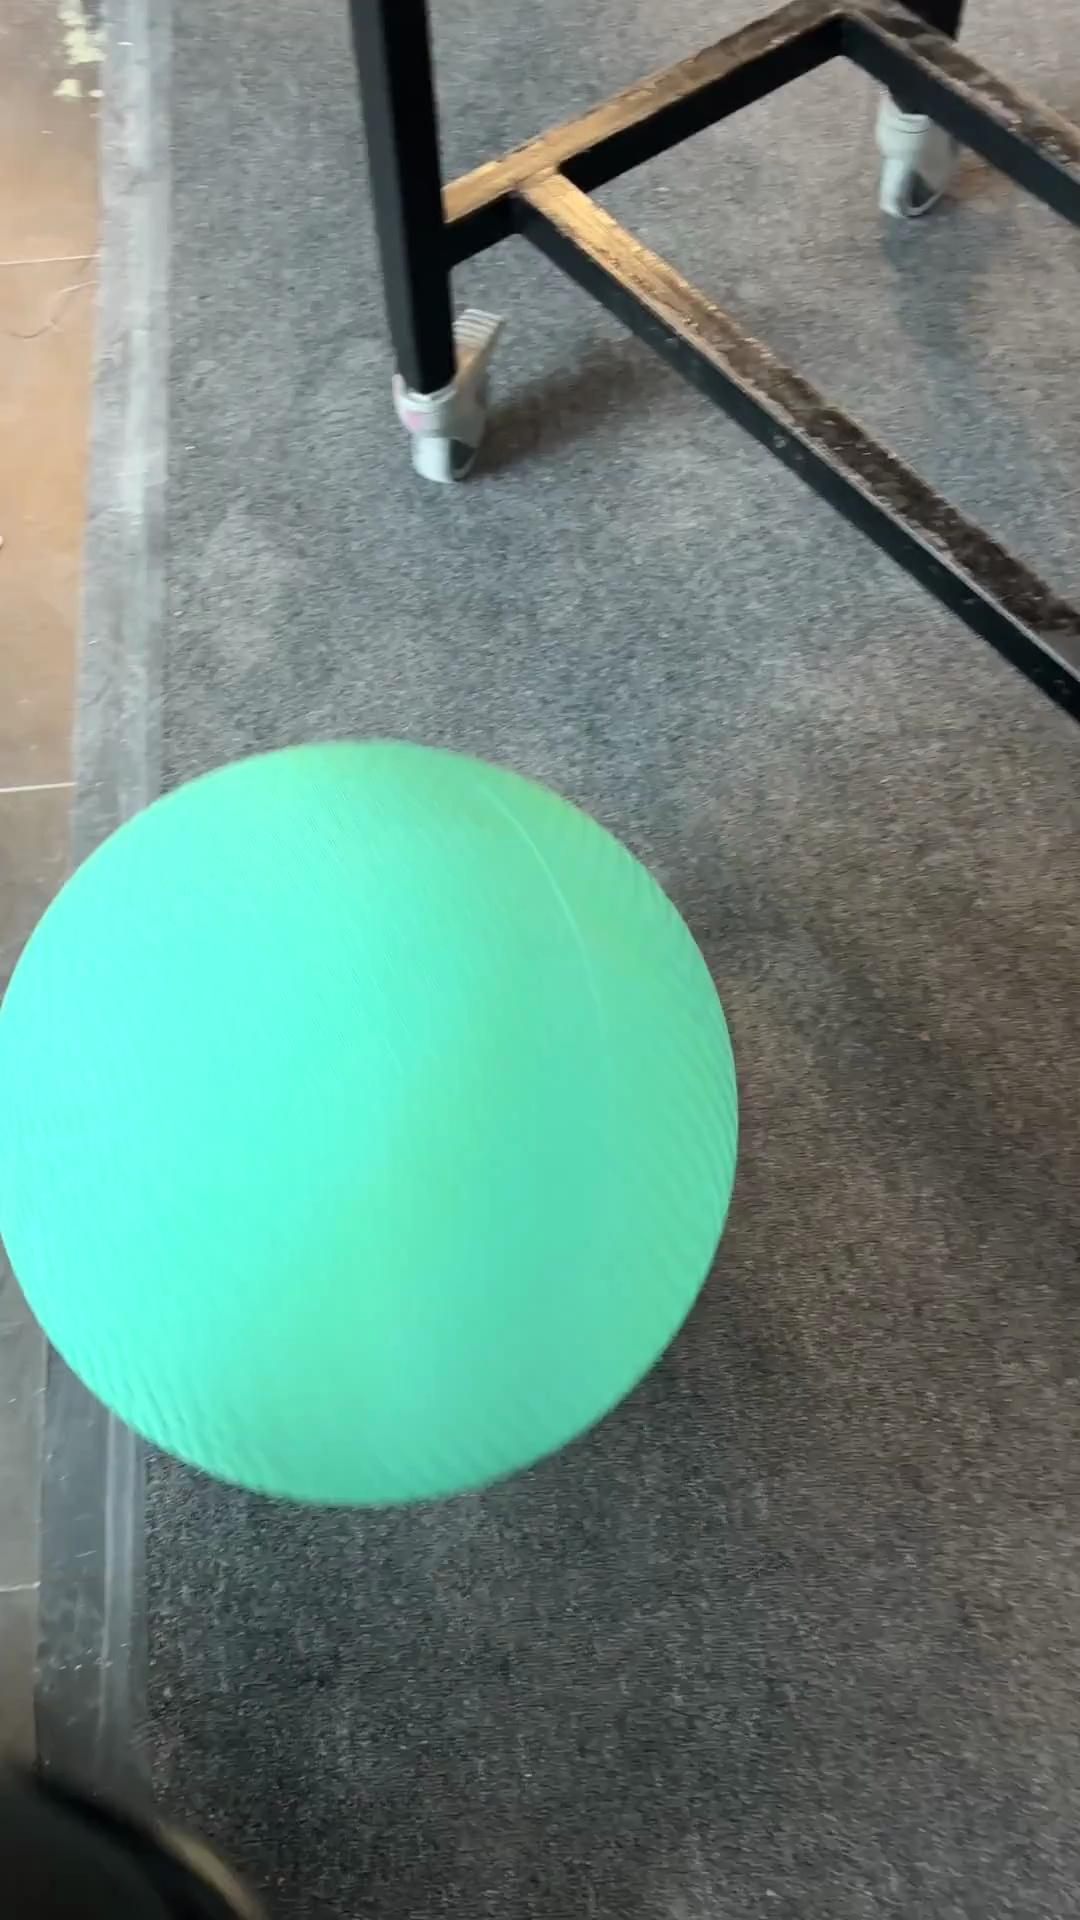ALGAE: (1, 733, 741, 1509)
